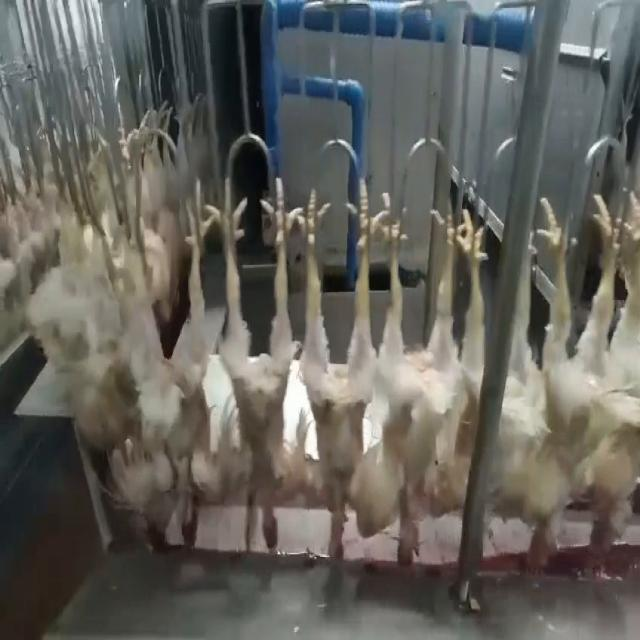chicken: (516, 185, 628, 579), (364, 192, 465, 573), (207, 167, 299, 560), (128, 172, 208, 560), (300, 181, 377, 578), (424, 195, 502, 521), (576, 181, 640, 574), (78, 168, 138, 468)
